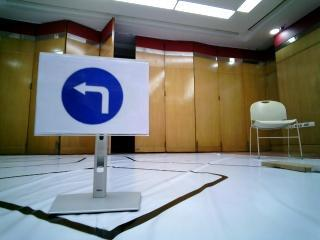left: (43, 59, 147, 132)
